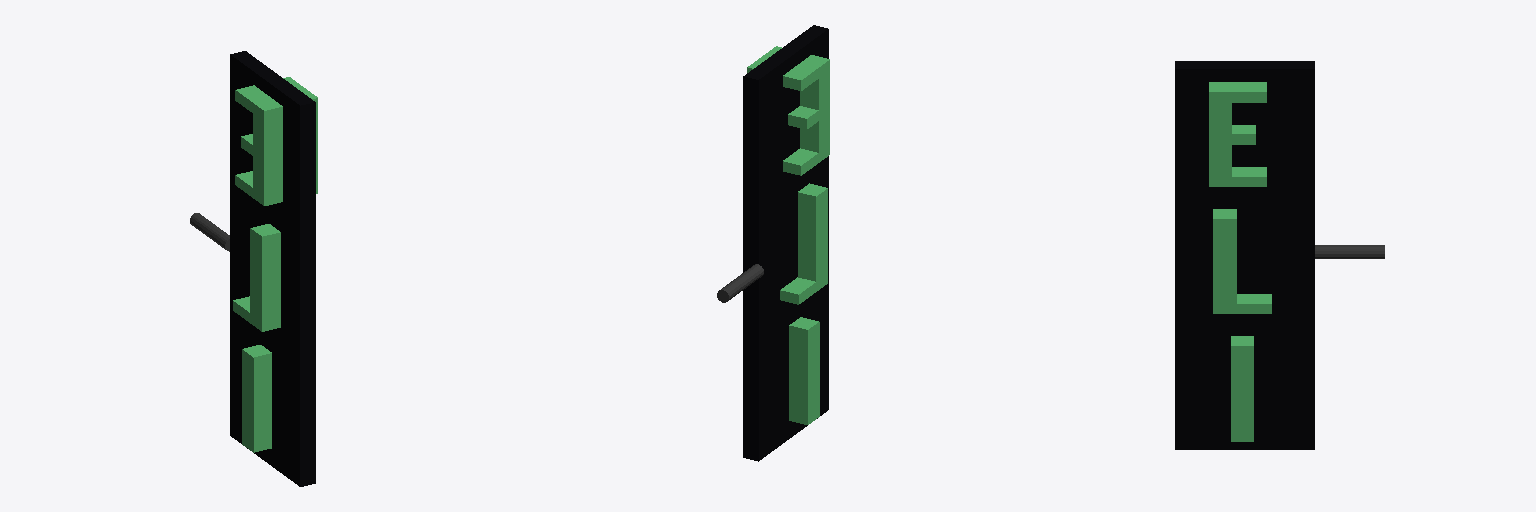
File: ELI.obj
3 views of the same model, side by side, from view 1: azimuth 30°, elevation 25°; view 2: azimuth 150°, elevation 25°; view 3: azimuth 270°, elevation 25° (orthographic).
Size of the model in its own units: 0.089 by 0.6 by 0.3.